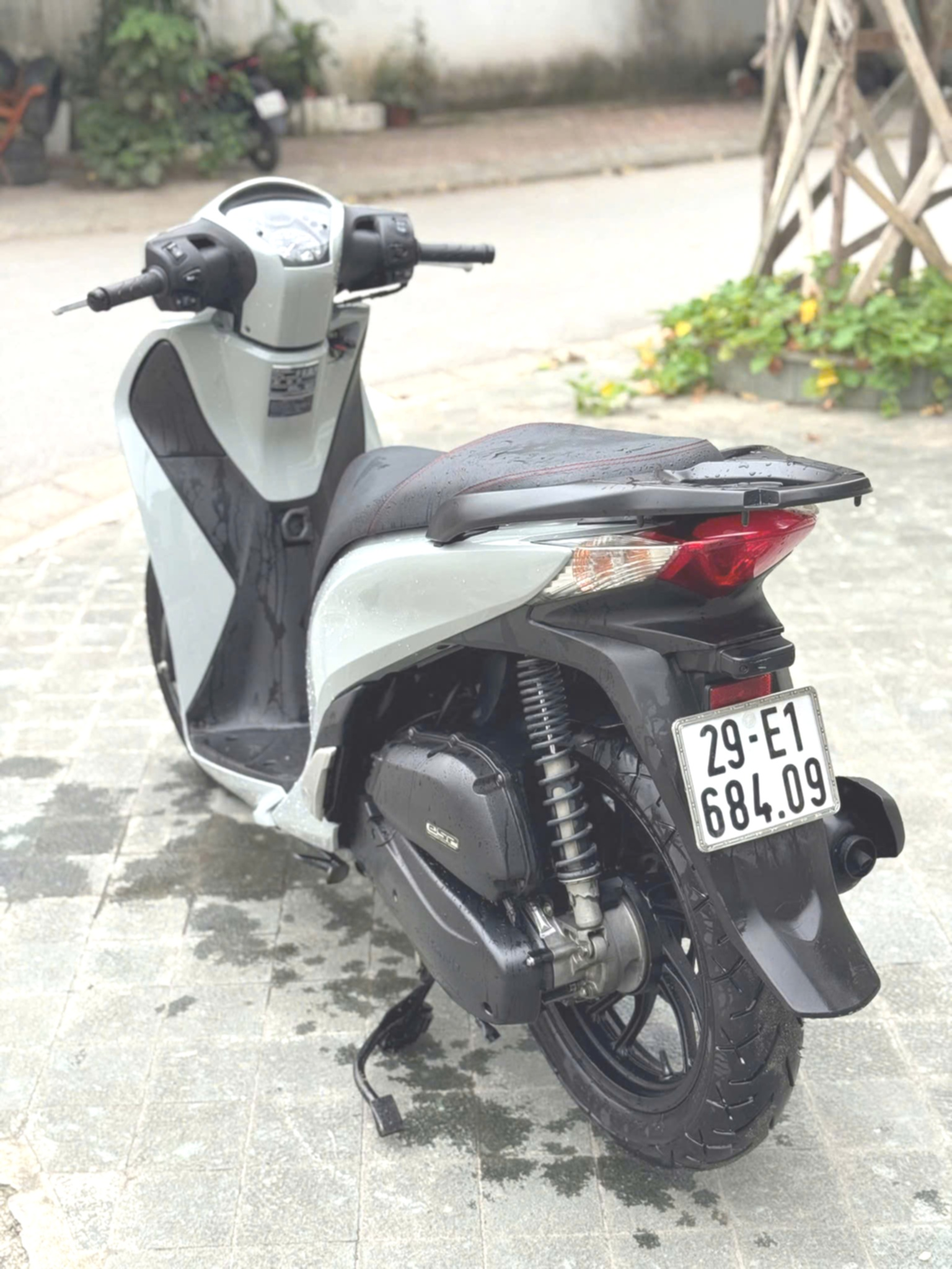Bien-so: (682, 667, 854, 849)
